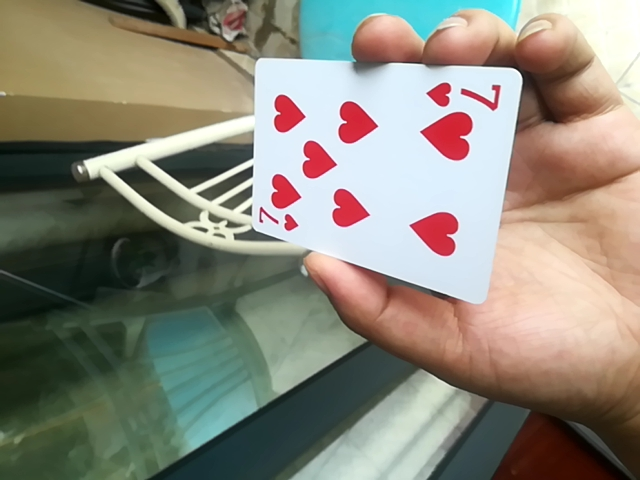hx 7: (244, 55, 521, 307)
